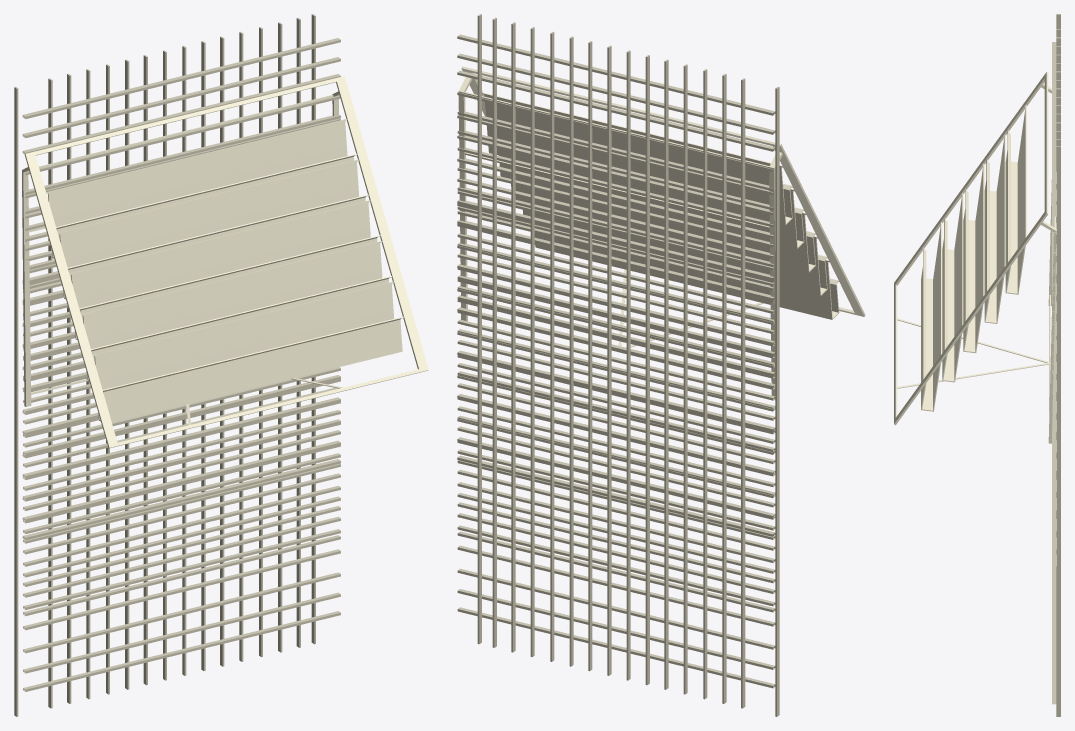
File: magazine_rack.glb
3 views of the same model, side by side, from view 1: azimuth 30°, elevation 25°; view 2: azimuth 150°, elevation 25°; view 3: azimuth 270°, elevation 25° (orthographic). The views are drawn at different scales.
Visible parts, largest first — view 1: magazine_rack_A_mesh, side_top_rack_mesh, side_middle_rack_mesh, side_bottom_rack_mesh, shelf_back_mesh_mesh; view 2: side_middle_rack_mesh, side_top_rack_mesh, side_bottom_rack_mesh, shelf_back_mesh_mesh, magazine_rack_A_mesh; view 3: magazine_rack_A_mesh, side_middle_rack_mesh, side_bottom_rack_mesh, shelf_back_mesh_mesh, side_top_rack_mesh.
Boxes of the visible parts, left/top/right/bottom form: magazine_rack_A_mesh: left=22, top=76, right=428, bottom=448; side_top_rack_mesh: left=14, top=241, right=340, bottom=716; side_middle_rack_mesh: left=14, top=90, right=340, bottom=640; side_bottom_rack_mesh: left=14, top=14, right=340, bottom=564; shelf_back_mesh_mesh: left=15, top=14, right=338, bottom=561; side_middle_rack_mesh: left=457, top=92, right=779, bottom=640; side_top_rack_mesh: left=457, top=168, right=779, bottom=716; side_bottom_rack_mesh: left=458, top=14, right=779, bottom=564; shelf_back_mesh_mesh: left=457, top=14, right=779, bottom=564; magazine_rack_A_mesh: left=458, top=66, right=865, bottom=399; magazine_rack_A_mesh: left=894, top=72, right=1056, bottom=443; side_middle_rack_mesh: left=1052, top=216, right=1060, bottom=647; side_bottom_rack_mesh: left=1052, top=14, right=1060, bottom=566; shelf_back_mesh_mesh: left=1054, top=14, right=1059, bottom=566; side_top_rack_mesh: left=1052, top=285, right=1060, bottom=716.
Bounding box in the file's own units: 0.8902 × 1.66 × 0.4393.
